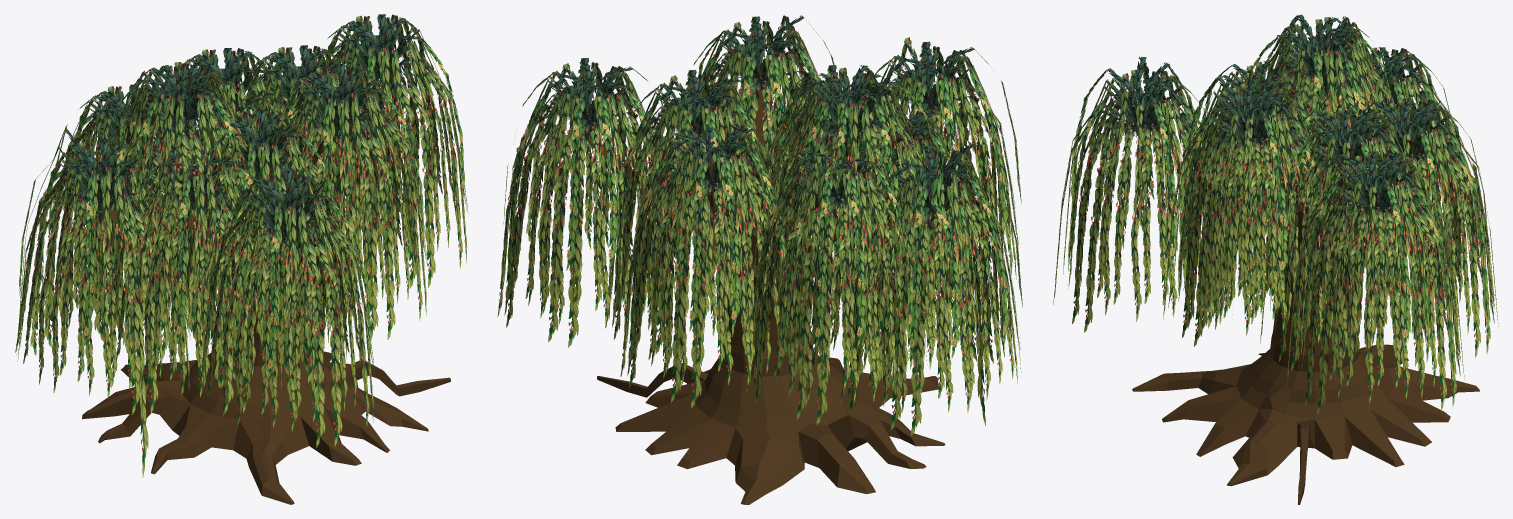
The model's file is yggrasil-3.fbx.
The picture shows the model from 3 angles, left to right: view 1: azimuth 30°, elevation 25°; view 2: azimuth 150°, elevation 25°; view 3: azimuth 270°, elevation 25°; orthographic projection. The views are drawn at different scales.
Parts seen in each view (by area): view 1: folha.024, folha.007, yggrasil, folha.005, folha.012, folha.006, folha.011, folha.009, folha.010, folha.008, folha.150, folha.124 (+10 smaller); view 2: yggrasil, folha.008, folha.009, folha.007, folha.010, folha.006, folha.024, folha.005, folha.012, folha.011, folha.169, folha.031 (+22 smaller); view 3: yggrasil, folha.024, folha.005, folha.008, folha.010, folha.006, folha.011, folha.009, folha.012, folha.032, folha.176, folha.127 (+19 smaller).
Boxes of the visible parts, x1=… form: folha.024: x1=199, y1=170, x2=374, y2=447; folha.007: x1=15, y1=128, x2=190, y2=414; yggrasil: x1=82, y1=91, x2=450, y2=504; folha.005: x1=256, y1=64, x2=428, y2=339; folha.012: x1=109, y1=139, x2=281, y2=413; folha.006: x1=95, y1=62, x2=260, y2=341; folha.011: x1=184, y1=109, x2=346, y2=383; folha.009: x1=45, y1=84, x2=217, y2=356; folha.010: x1=218, y1=45, x2=385, y2=315; folha.008: x1=148, y1=48, x2=299, y2=256; folha.150: x1=389, y1=67, x2=435, y2=287; folha.124: x1=110, y1=174, x2=148, y2=477; yggrasil: x1=587, y1=71, x2=945, y2=504; folha.008: x1=620, y1=123, x2=799, y2=408; folha.009: x1=746, y1=135, x2=928, y2=424; folha.007: x1=840, y1=141, x2=1022, y2=435; folha.010: x1=605, y1=70, x2=781, y2=356; folha.006: x1=756, y1=65, x2=946, y2=340; folha.024: x1=840, y1=37, x2=1021, y2=300; folha.005: x1=673, y1=15, x2=834, y2=274; folha.012: x1=810, y1=102, x2=981, y2=389; folha.011: x1=752, y1=65, x2=912, y2=352; folha.169: x1=548, y1=116, x2=589, y2=341; folha.031: x1=568, y1=119, x2=592, y2=347; yggrasil: x1=1132, y1=86, x2=1479, y2=504; folha.024: x1=1053, y1=56, x2=1230, y2=332; folha.005: x1=1163, y1=76, x2=1337, y2=346; folha.008: x1=1335, y1=98, x2=1498, y2=359; folha.010: x1=1260, y1=107, x2=1436, y2=370; folha.006: x1=1236, y1=14, x2=1393, y2=255; folha.011: x1=1168, y1=72, x2=1328, y2=334; folha.009: x1=1314, y1=47, x2=1470, y2=302; folha.012: x1=1177, y1=61, x2=1328, y2=322; folha.032: x1=1317, y1=203, x2=1371, y2=414; folha.176: x1=1387, y1=196, x2=1446, y2=410; folha.127: x1=1364, y1=187, x2=1377, y2=403.
Bounding box in the file's own units: 941 × 723 × 809.
